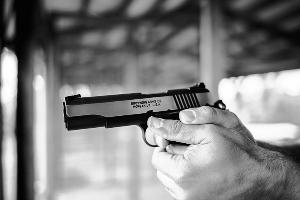handgun: (53, 69, 221, 152)
